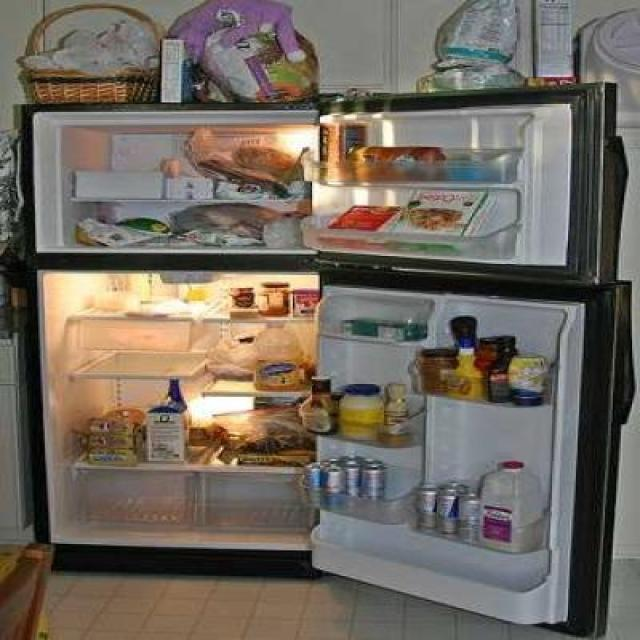refrigerator: (15, 103, 582, 572)
